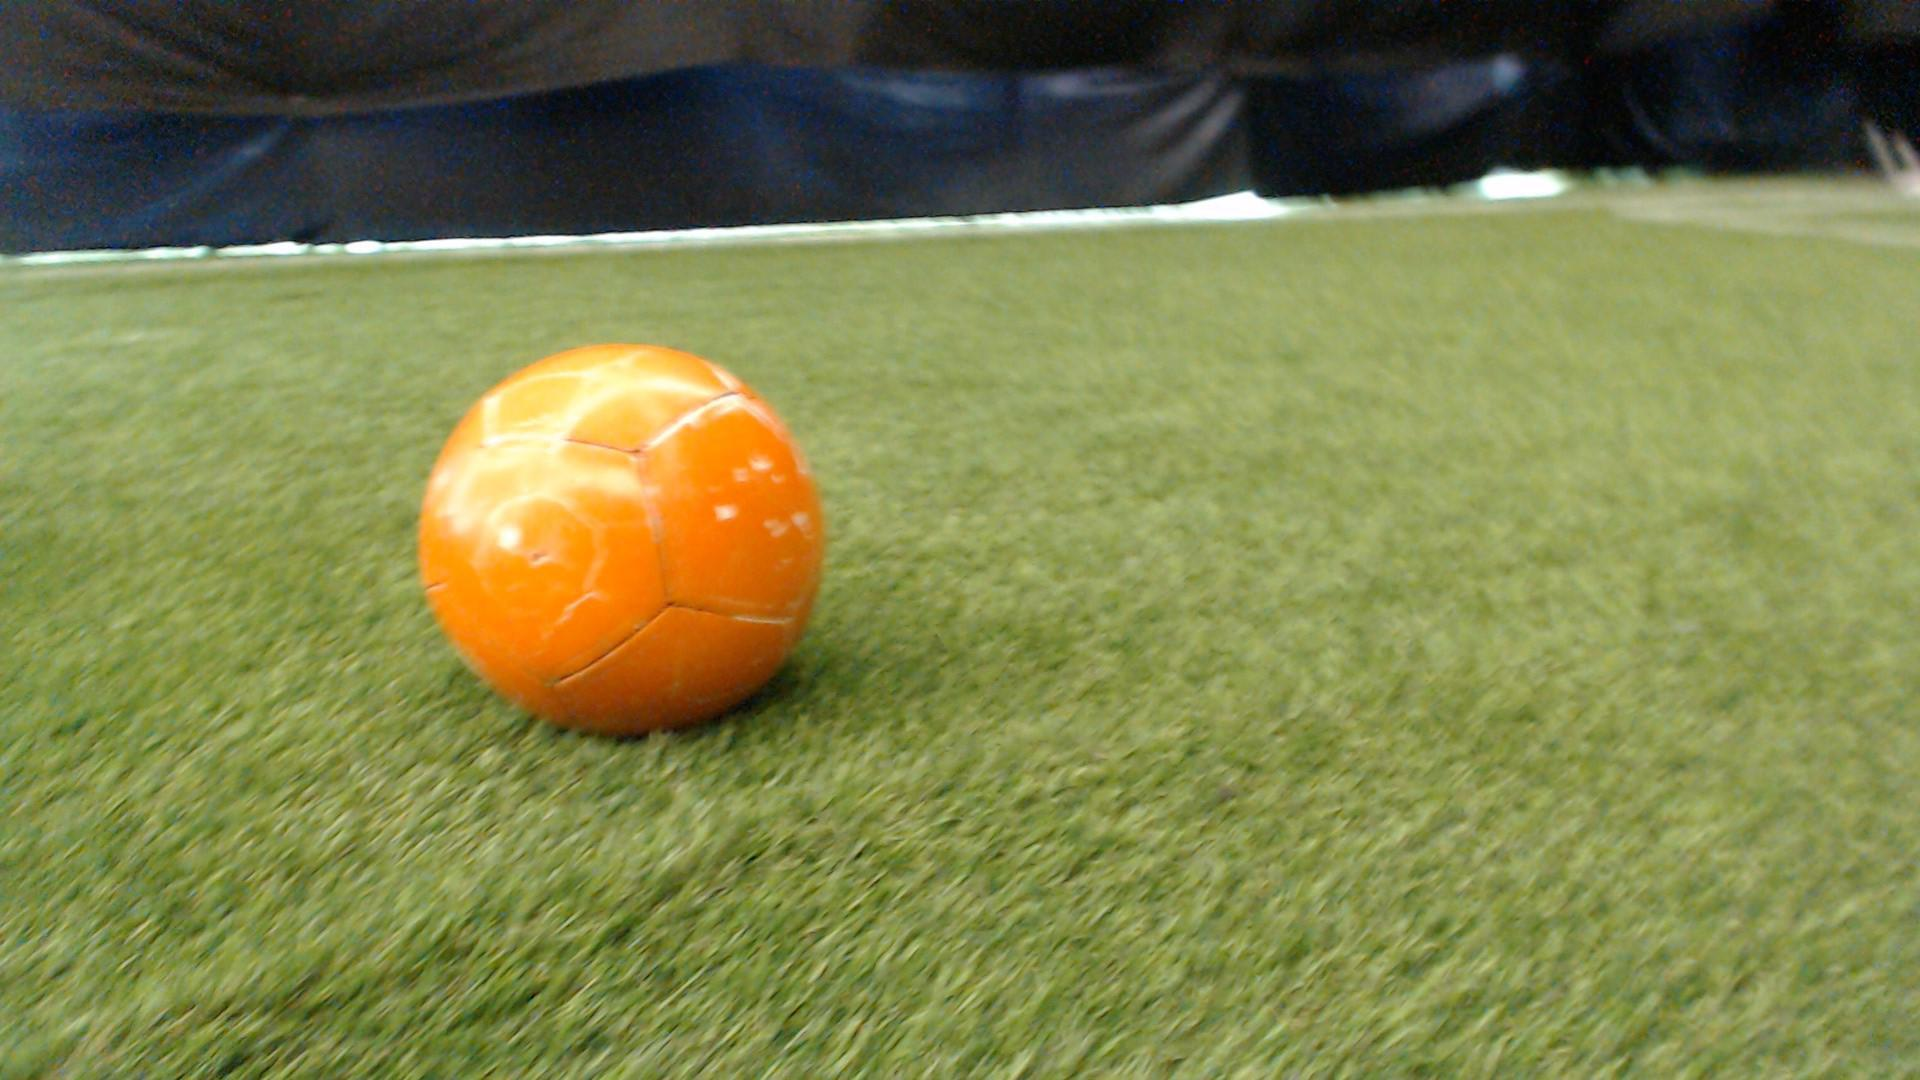bola: (381, 323, 891, 760)
